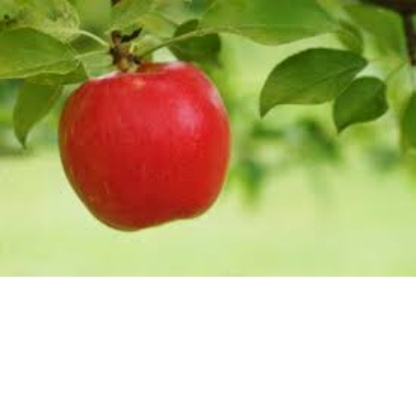tao: (55, 64, 231, 238)
